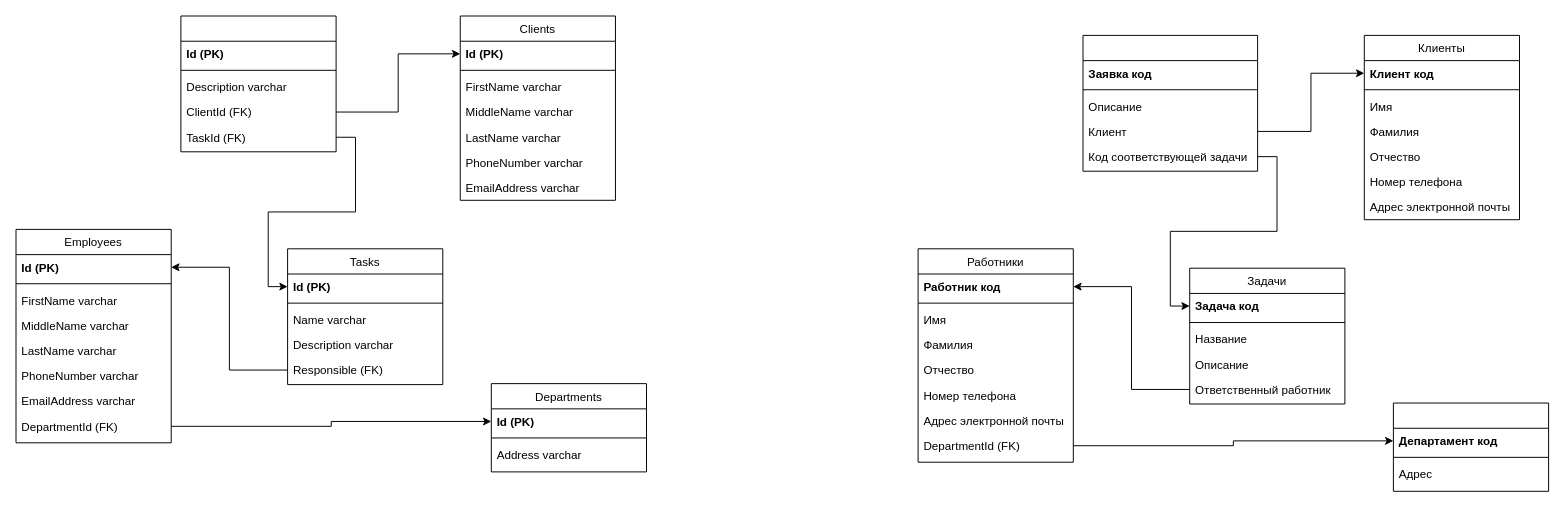
The diagram is 1565 pixels wide and 507 high, and some of its shapes have lost their labels. Here are the shapes that lost their labels. From the top down, the box of each, then its label:
(180, 15, 336, 152): Applications
(1082, 34, 1258, 171): Заявки
(1392, 402, 1549, 491): Департаменты
